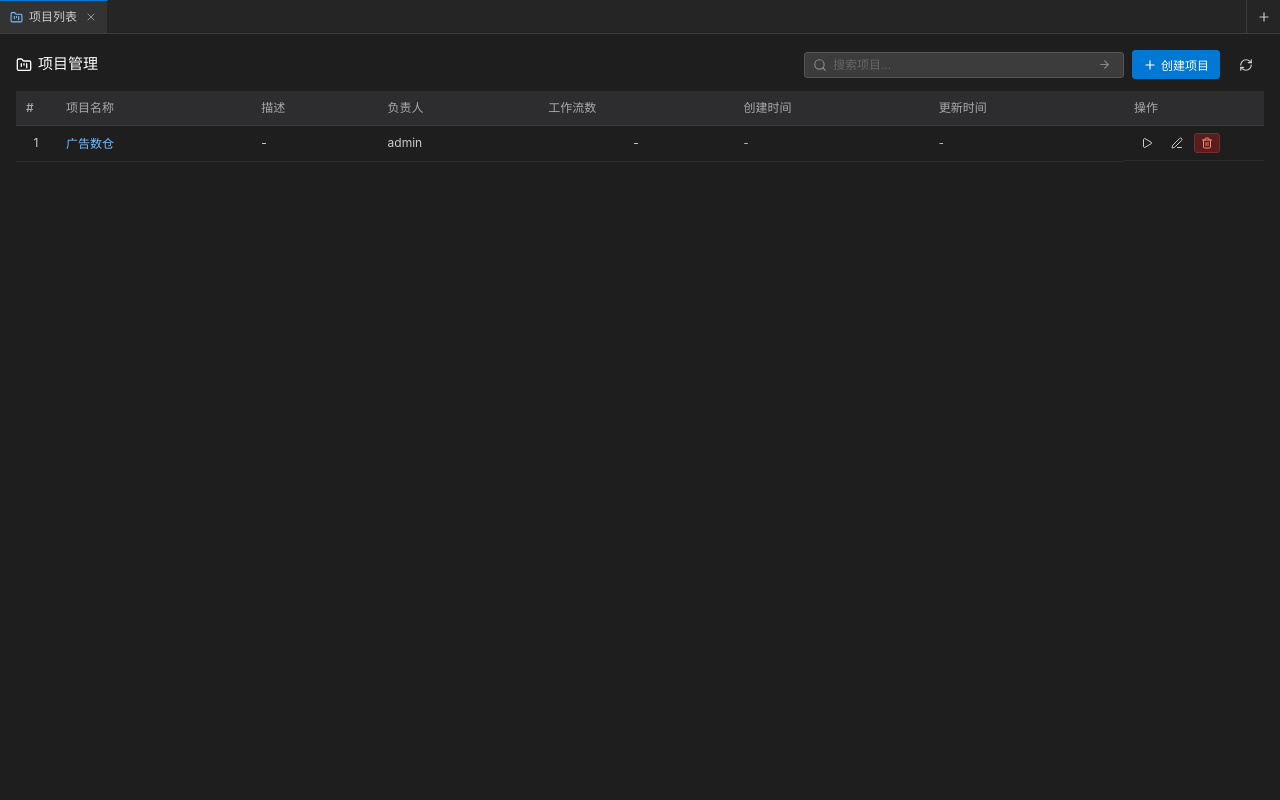
Test case: 「定时」入口的角色门禁 › 超级管理员：按钮可用，点击打开定时弹窗
Click the button "广告数仓": point(90, 142) [66, 134, 114, 151]
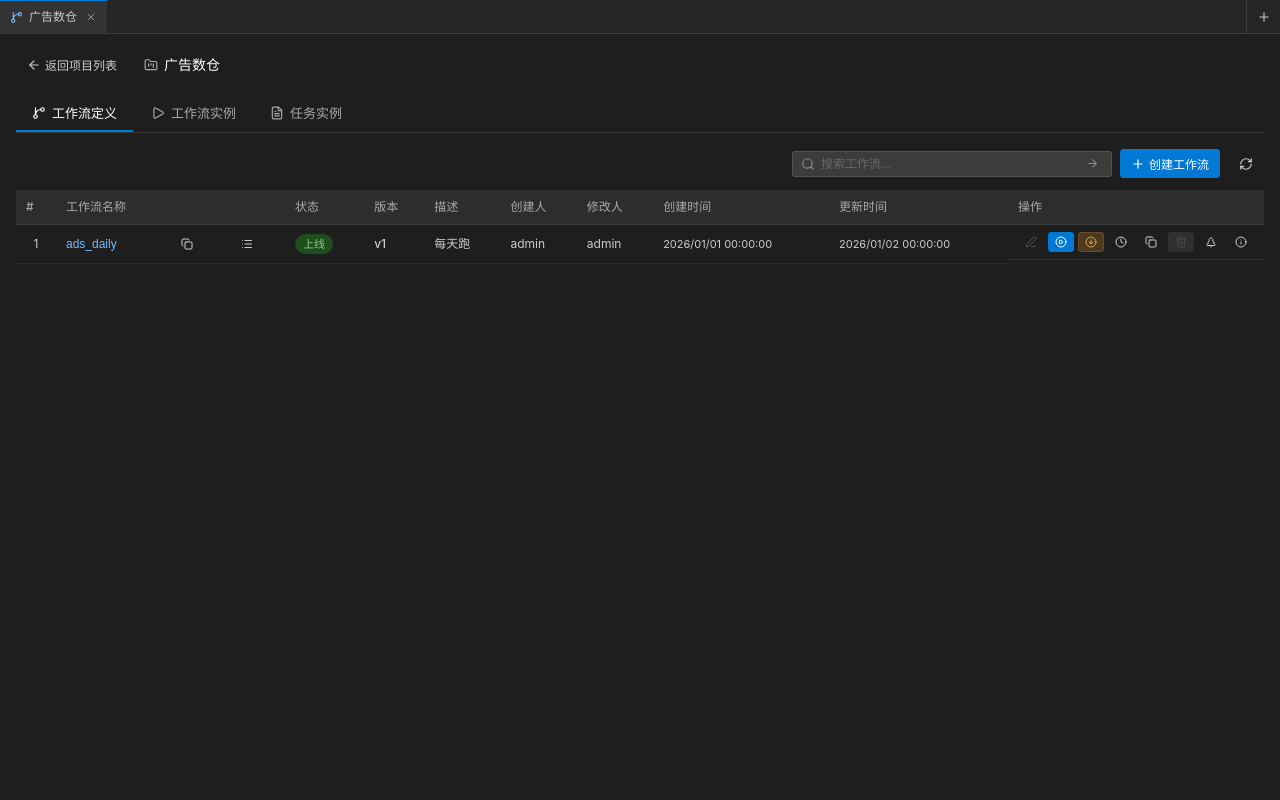
Expected: the button "ads_daily" is shown, [66, 237, 117, 251]
Click the button titled "定时": point(1121, 242) [1108, 232, 1134, 252]
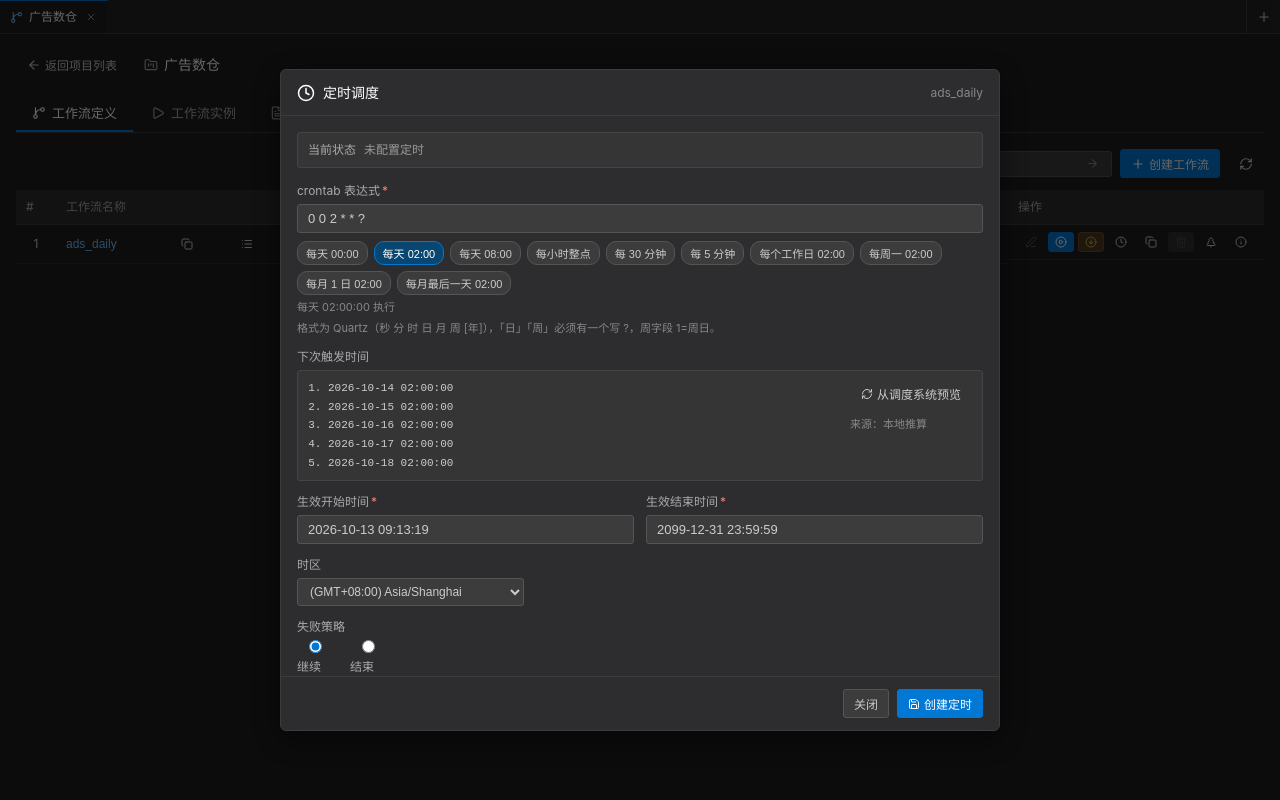
Expected: the text "定时调度" is shown, [323, 82, 379, 103]
Expected: the text "未配置定时" is shown, [364, 141, 424, 159]
